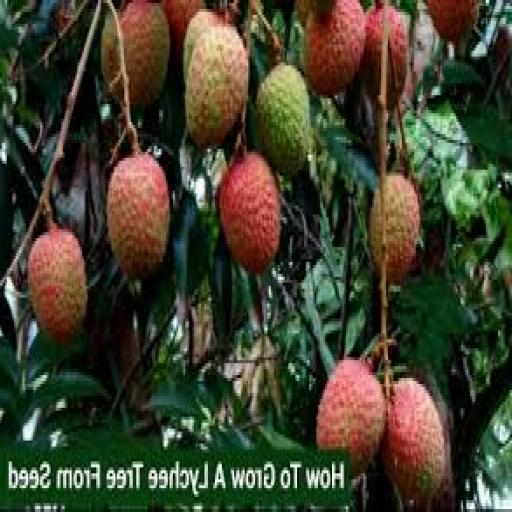lychee: (316, 358, 385, 476), (380, 379, 444, 503), (185, 24, 247, 148), (106, 155, 168, 276), (218, 152, 280, 273), (27, 227, 86, 342), (256, 63, 310, 175), (304, 0, 364, 95), (118, 0, 168, 107), (384, 173, 418, 282), (183, 9, 222, 80), (162, 0, 203, 65), (428, 0, 477, 44), (386, 6, 406, 107)
